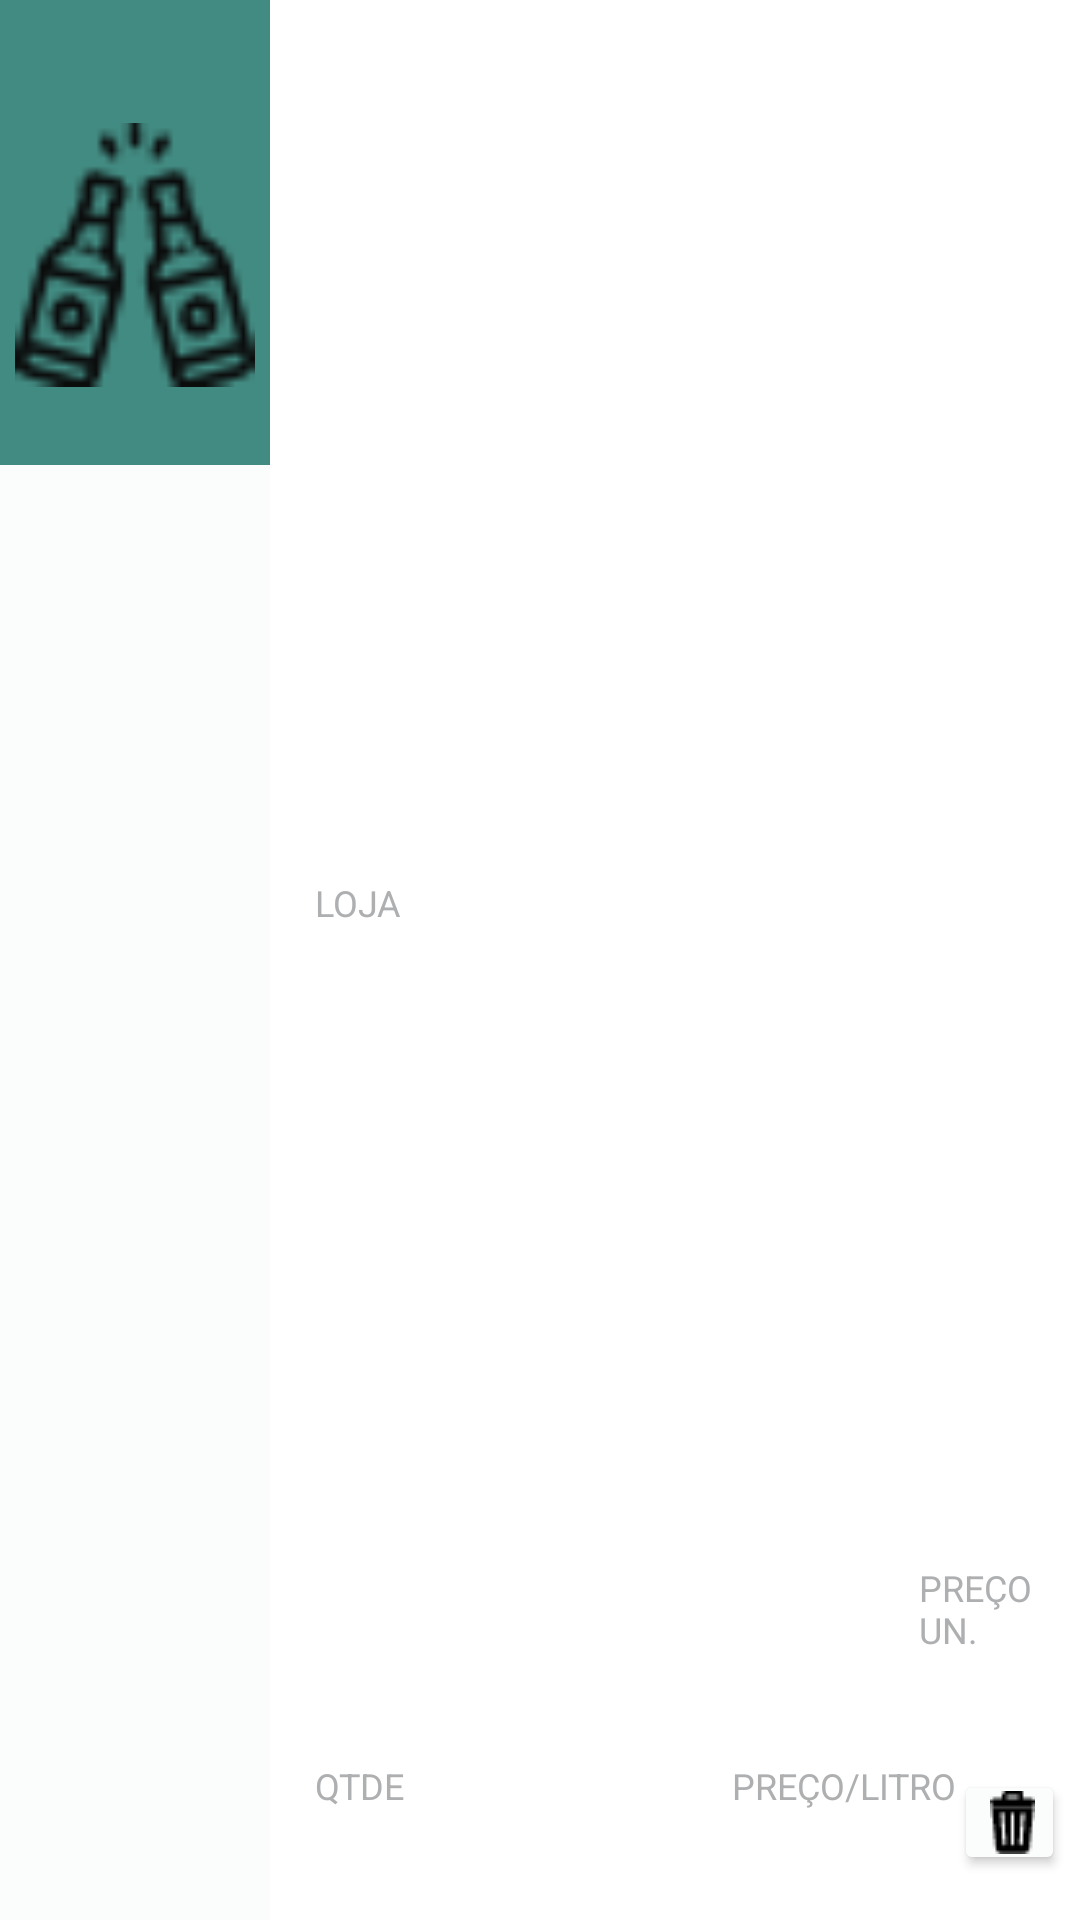

Locate icon controls on the screen. Image size 1080 x 1920, boxes as (x1, y1, x2, y2).
bebida: (15, 123, 255, 387)
